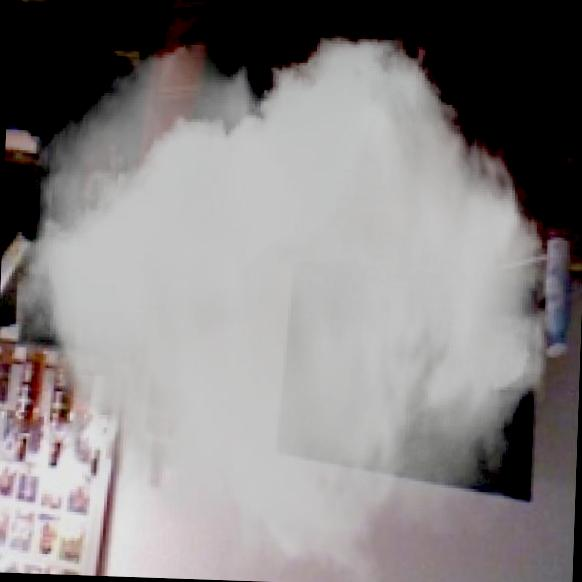smoke: (6, 25, 565, 582)
